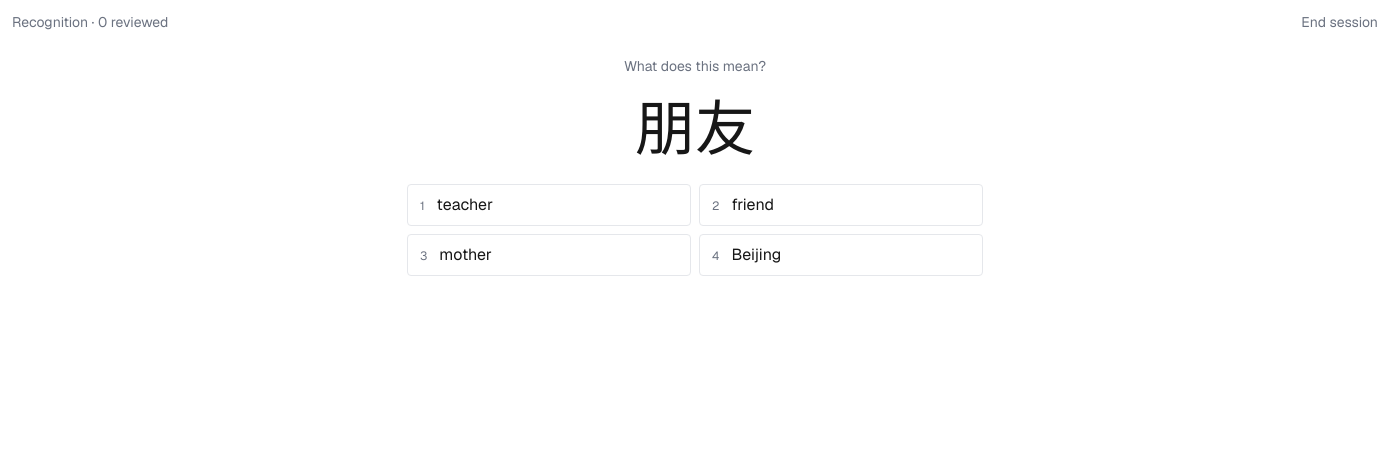
ReviewSession › grades, rates with the suggestion and refetches until nothing is due
Click the button "2 friend" at (753, 204), box top-left (699, 184), bottom-right (983, 226)
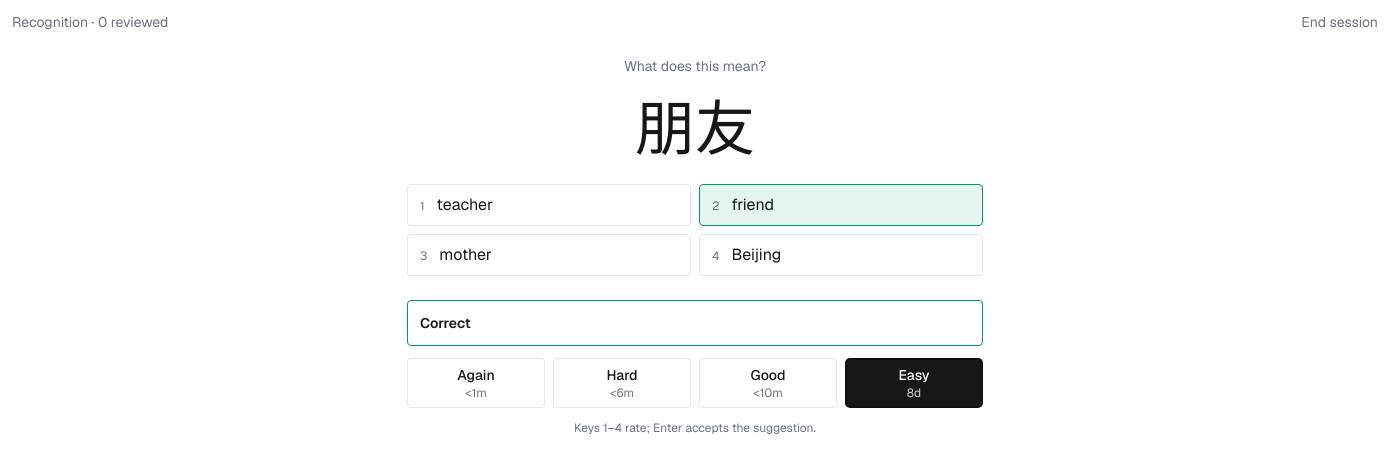
Expected: the button with aria-label "Easy (suggested), 8d" is shown, top-left (845, 358), bottom-right (983, 408)
Press Enter
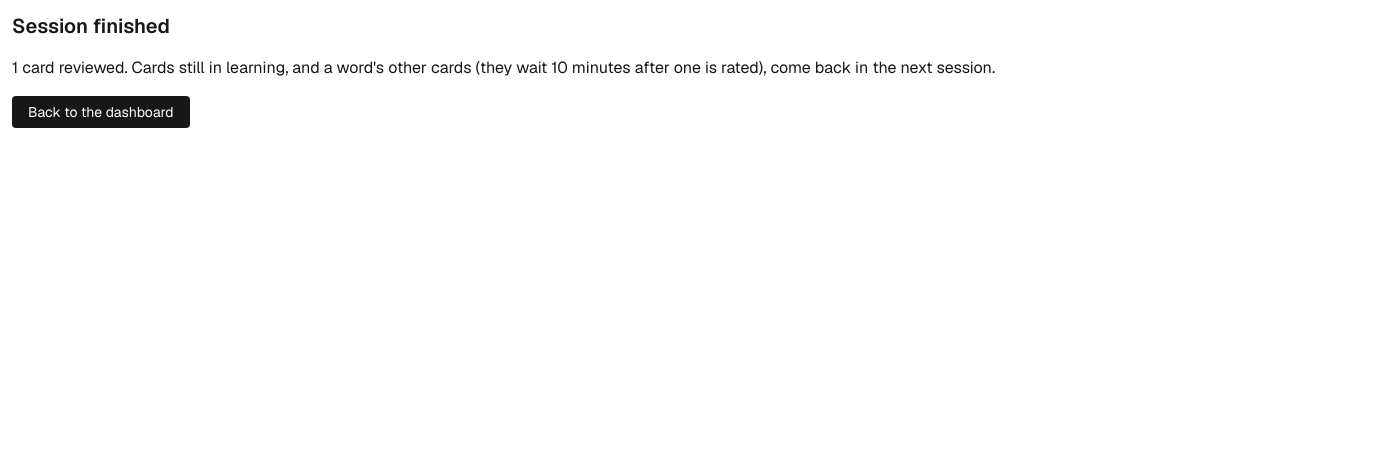
Expected: the message shows "1 card reviewed", top-left (12, 57), bottom-right (995, 78)
